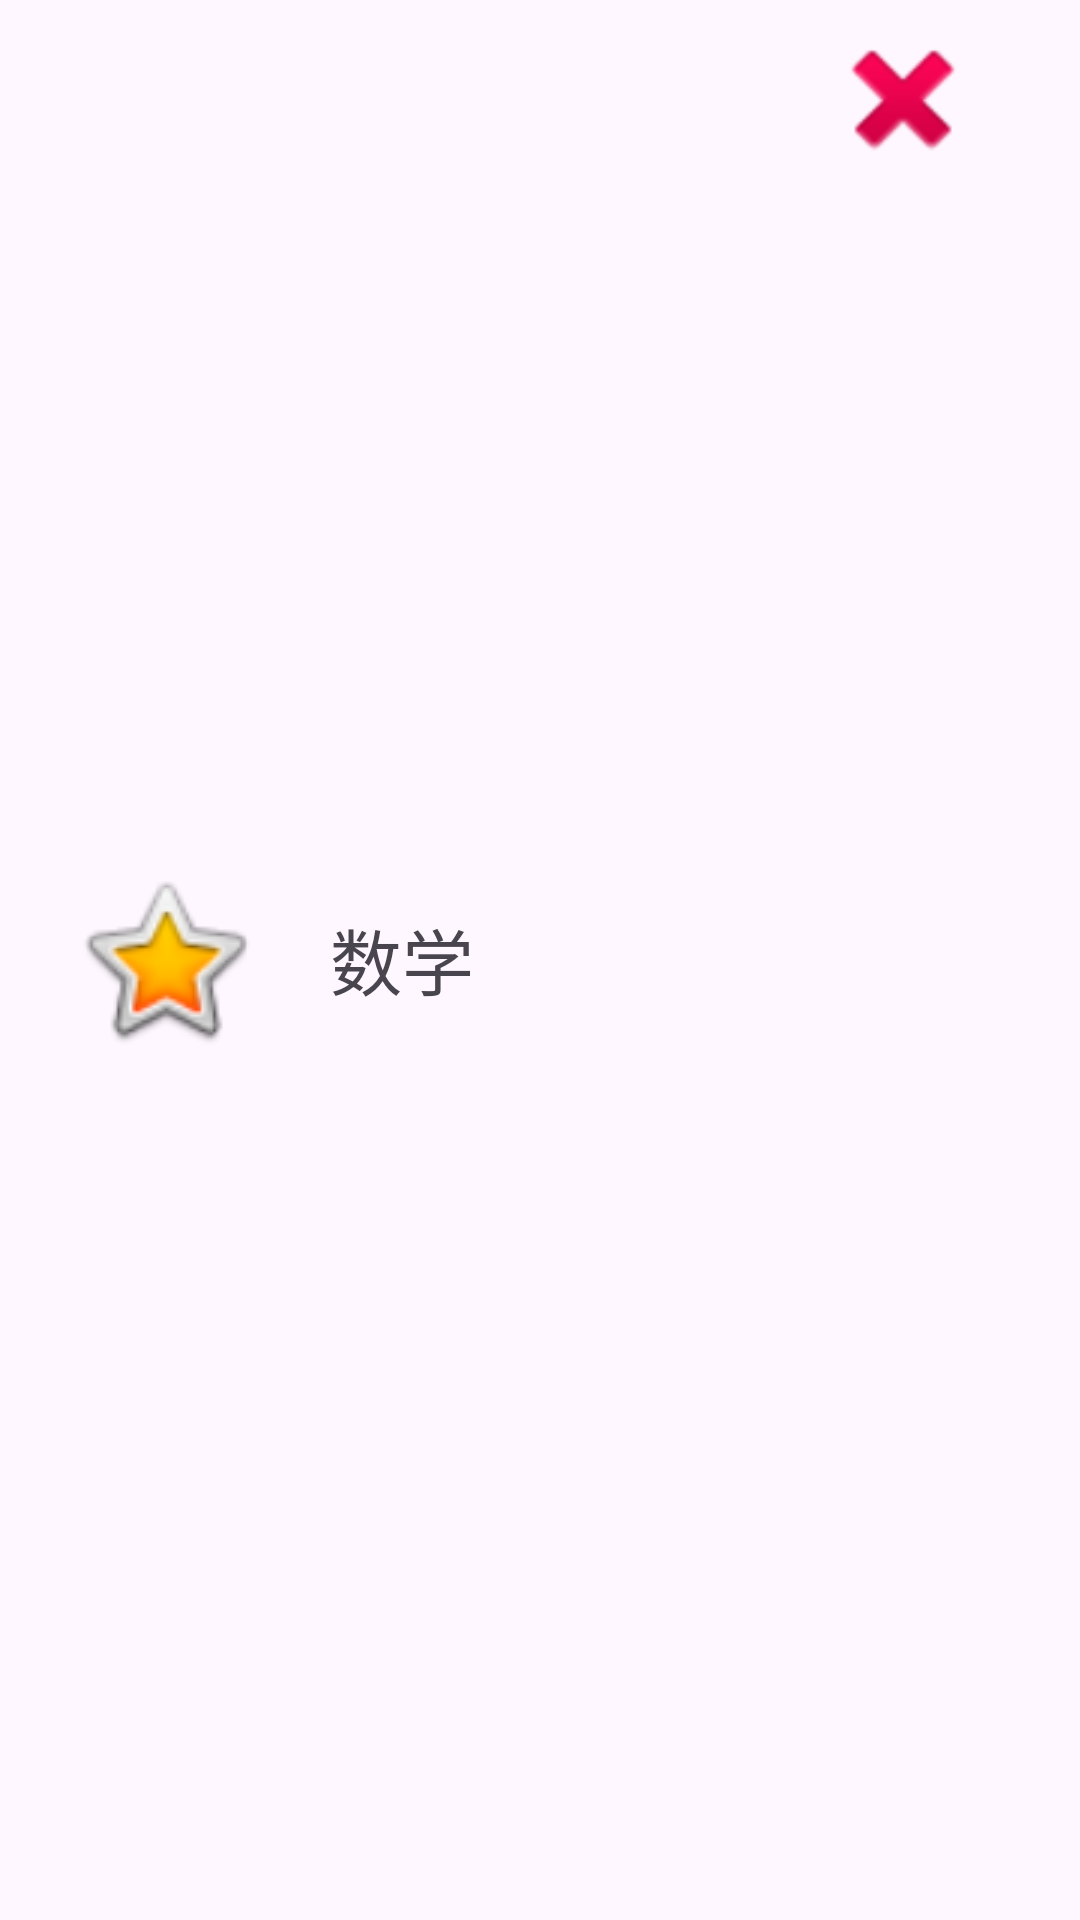

Where icons sit on this 1080px×1920px app screen, as bbox(x1, y1, x2, y2):
delete: bbox(851, 50, 955, 150)
star on: bbox(86, 883, 247, 1040)
